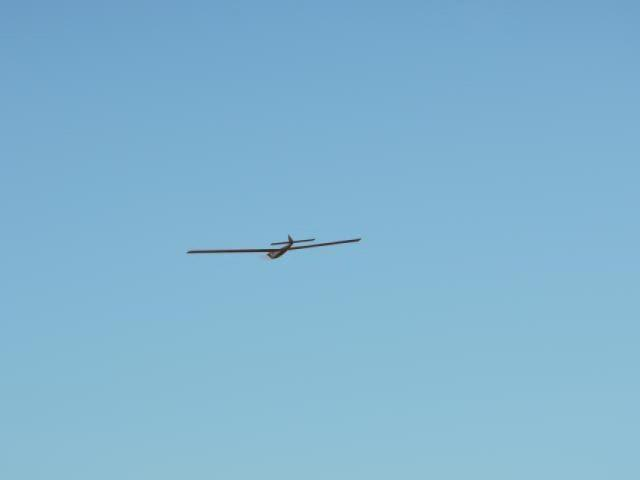iha: (184, 228, 370, 263)
